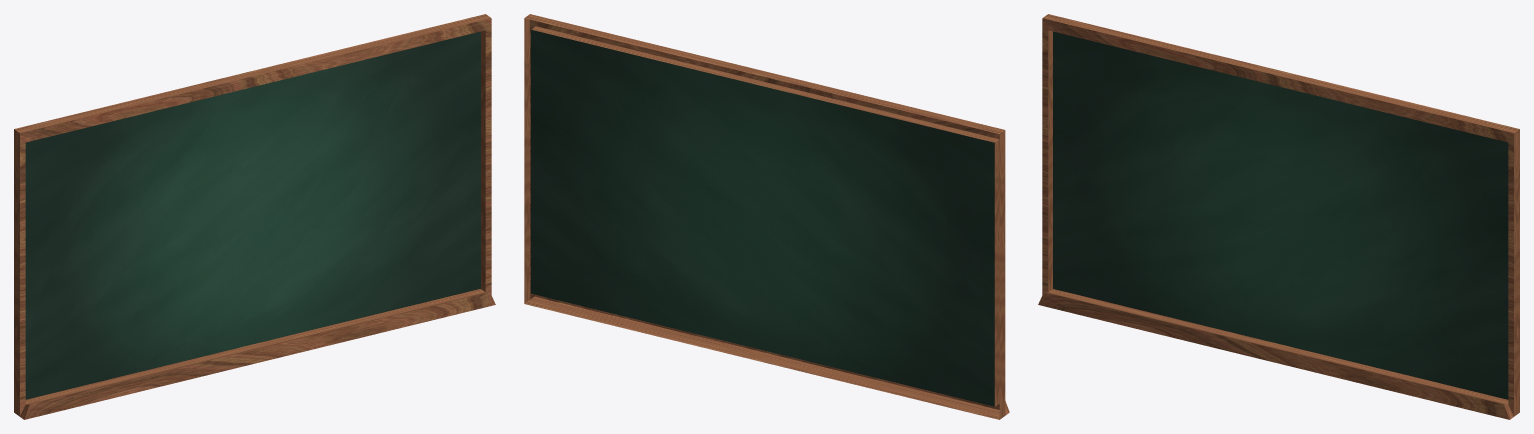
File: board.glb
The picture shows the model from 3 angles, left to right: view 1: azimuth 30°, elevation 25°; view 2: azimuth 150°, elevation 25°; view 3: azimuth 330°, elevation 25°; orthographic projection.
Visible parts, largest first — view 1: Lousa_mtMadeira_0; view 2: Lousa_mtMadeira_0; view 3: Lousa_mtMadeira_0.
Boxes of the visible parts, bbox=[...] form: Lousa_mtMadeira_0: bbox=[14, 14, 495, 419]; Lousa_mtMadeira_0: bbox=[524, 14, 1009, 419]; Lousa_mtMadeira_0: bbox=[1038, 14, 1519, 419].
Size of the model in its own units: 20.15 by 11.57 by 0.7492.
Materials: 2 (2 with a texture image).
